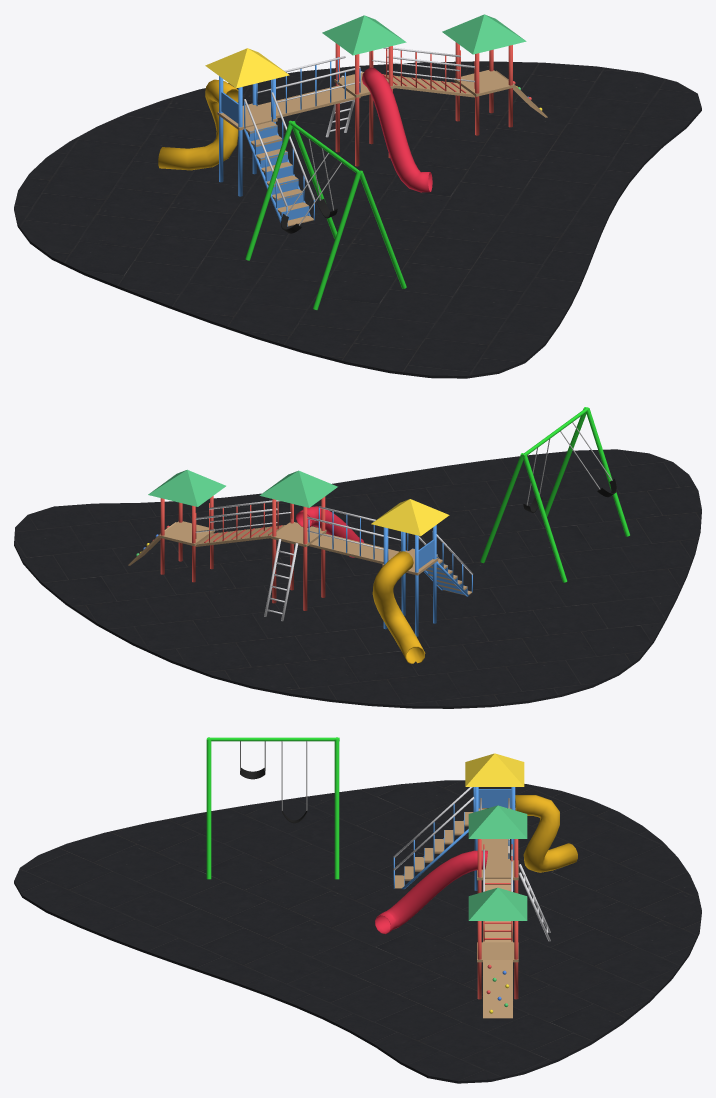
File: JuegosConPiso (1).fbx
The picture shows the model from 3 angles, top to bottom: view 1: azimuth 30°, elevation 25°; view 2: azimuth 150°, elevation 25°; view 3: azimuth 270°, elevation 25°; orthographic projection. The views are drawn at different scales.
Visible parts, largest first — view 1: BézierCircle, Puente_AB_baluster; view 2: BézierCircle, Puente_AB_baluster; view 3: BézierCircle, Puente_AB_baluster.
Part boxes in pixels (x1,y1,x2,y2): BézierCircle: (14, 61, 701, 378); Puente_AB_baluster: (158, 14, 547, 309); BézierCircle: (14, 449, 701, 708); Puente_AB_baluster: (128, 407, 629, 663); BézierCircle: (14, 780, 701, 1083); Puente_AB_baluster: (206, 737, 577, 1018).
Bounding box in the file's own units: 2139 × 467 × 2067.
